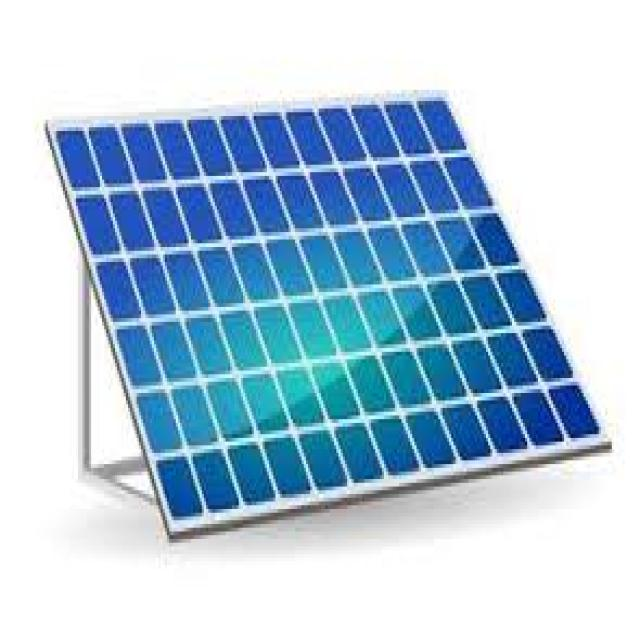clean-solar-panel: (51, 99, 601, 533)
